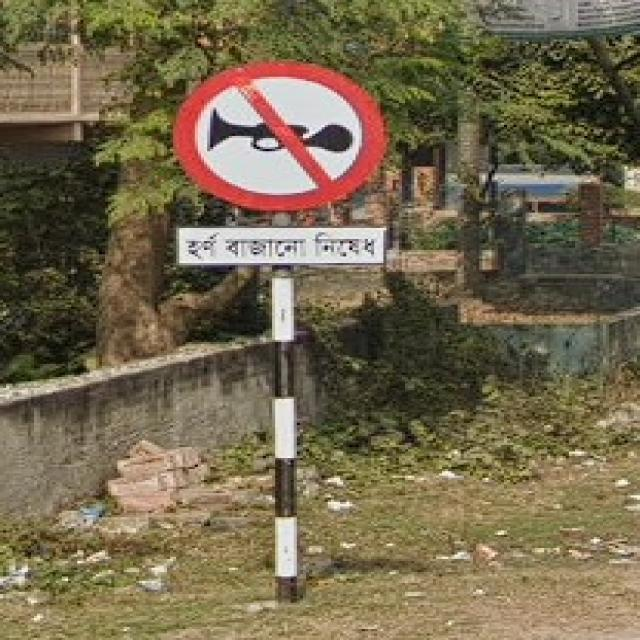Horn-blowing-is-prohibited: (158, 56, 416, 282)
